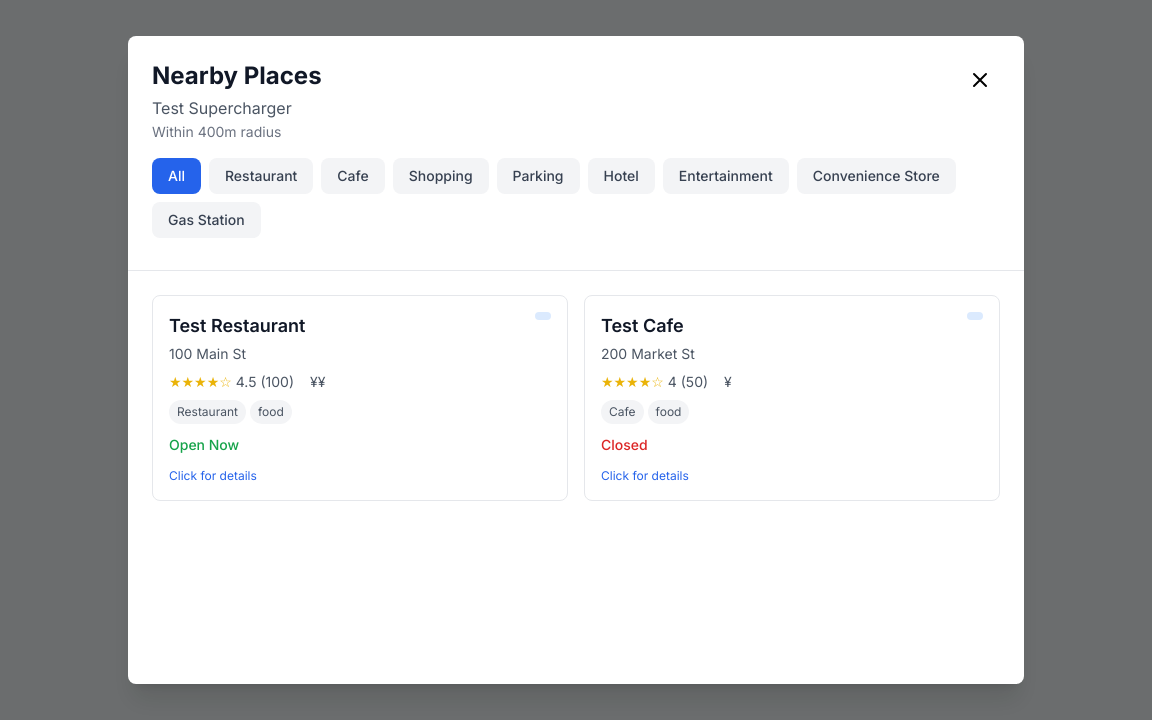
it: NearbyPlaces Component › should display place details when clicked
Expected: the heading "Test Restaurant" is shown, [169, 312, 305, 340]
// Click on a place
Click the text "Test Restaurant". click: {"x": 237, "y": 326}
box: [169, 312, 551, 340]
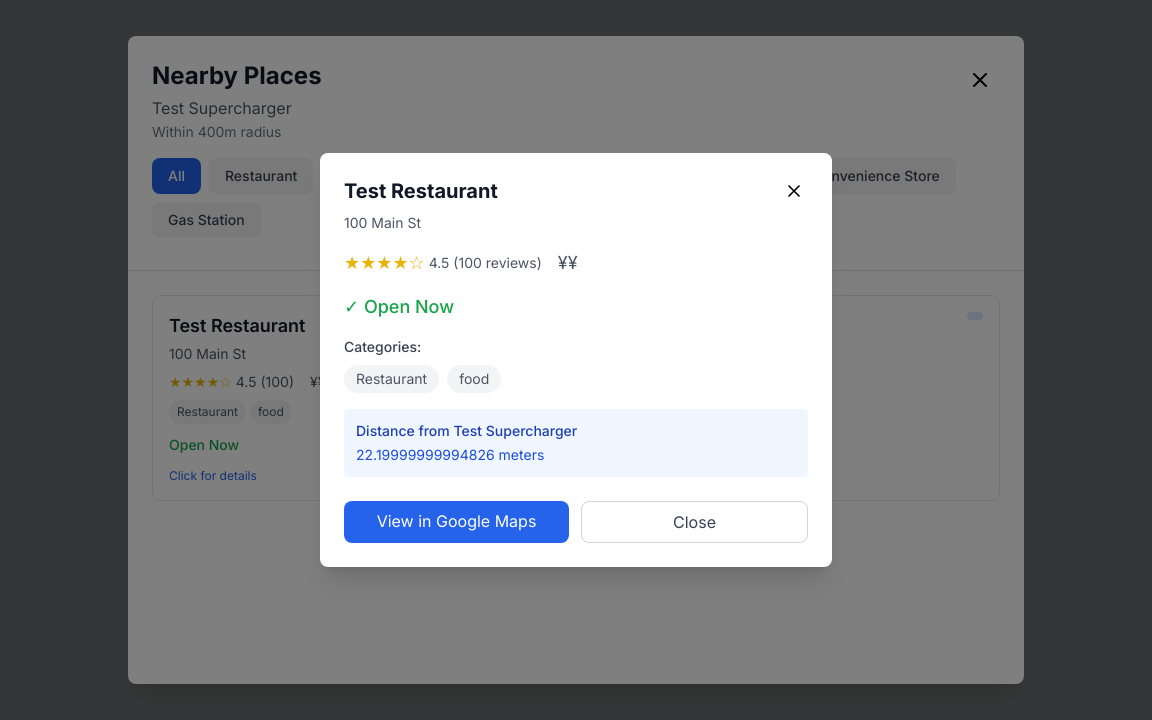
Expected: the text "100 Main St" next to "200 Market St" is shown, [169, 345, 246, 362]
Expected: the text "4.5 (100 reviews)" is shown, [429, 253, 542, 273]
Expected: the text "✓ Open Now" is shown, [344, 296, 454, 317]
